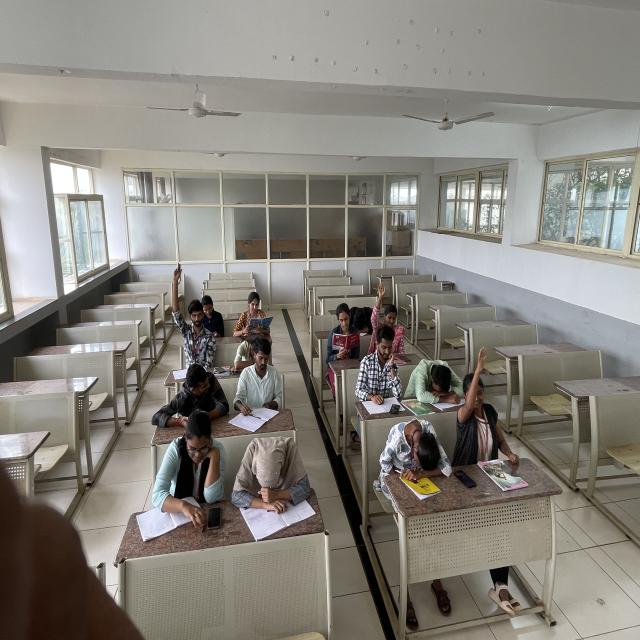Hand Rising: (166, 257, 217, 364), (459, 346, 506, 441), (372, 276, 406, 346)
Reading: (155, 412, 214, 519), (359, 330, 402, 410), (330, 301, 361, 360), (232, 293, 276, 334)
Sleeping: (238, 438, 309, 508), (388, 421, 447, 476), (408, 355, 466, 407), (229, 332, 265, 369)
